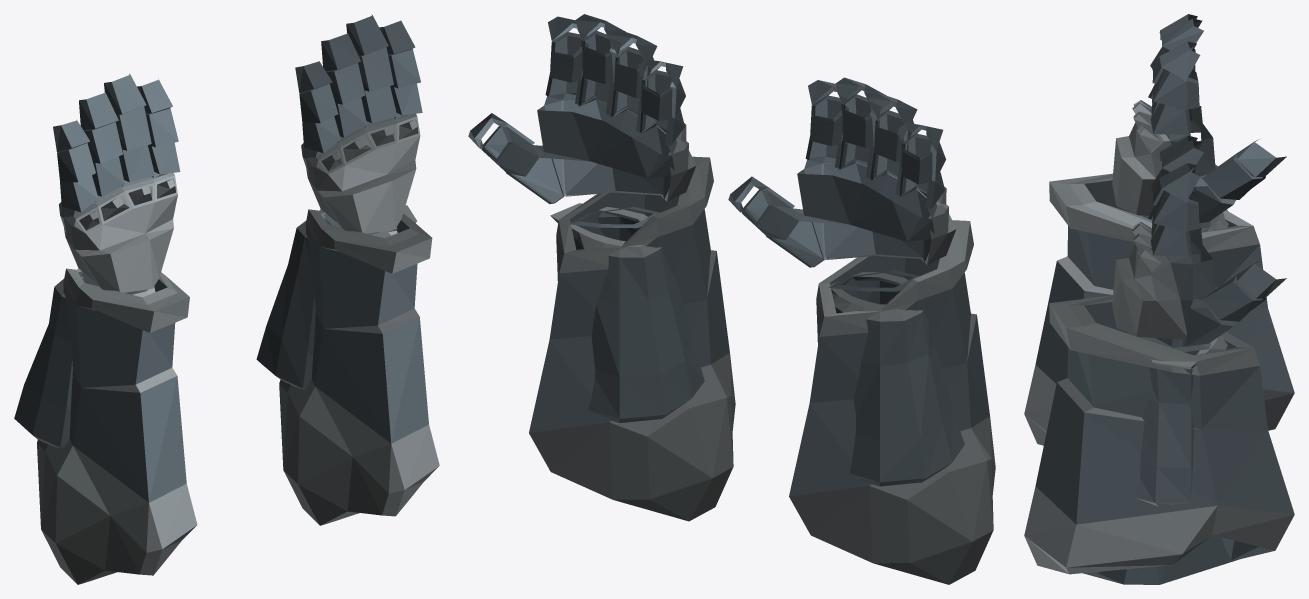
The model's file is iron_hands.glb.
The picture shows the model from 3 angles, left to right: view 1: azimuth 30°, elevation 25°; view 2: azimuth 150°, elevation 25°; view 3: azimuth 270°, elevation 25°; orthographic projection. The views are drawn at different scales.
Visible parts, largest first — view 1: iron_hands; view 2: iron_hands; view 3: iron_hands.
Part boxes in pixels (bbox=[...]): iron_hands: bbox=[14, 14, 439, 584]; iron_hands: bbox=[468, 14, 995, 584]; iron_hands: bbox=[1024, 14, 1294, 584].
Bounding box in the file's own units: 0.951 × 1 × 0.514.
